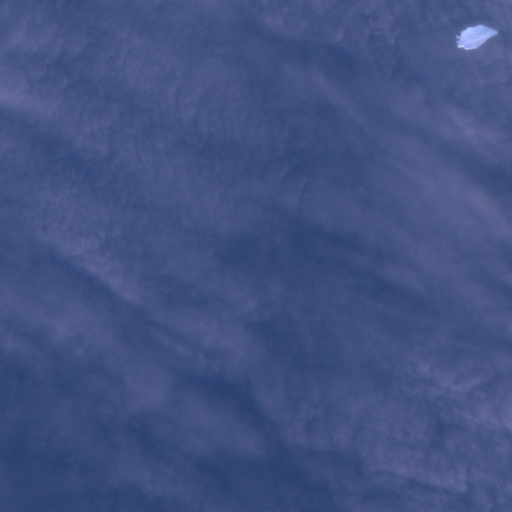Iceberg: (457, 25, 495, 49)
